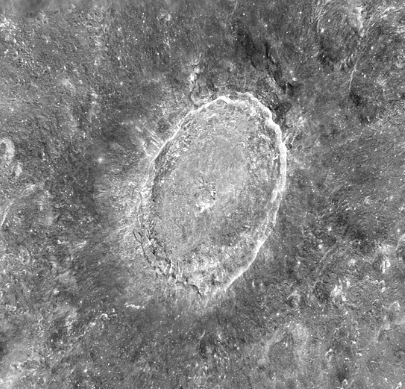crater: (91, 60, 312, 348)
